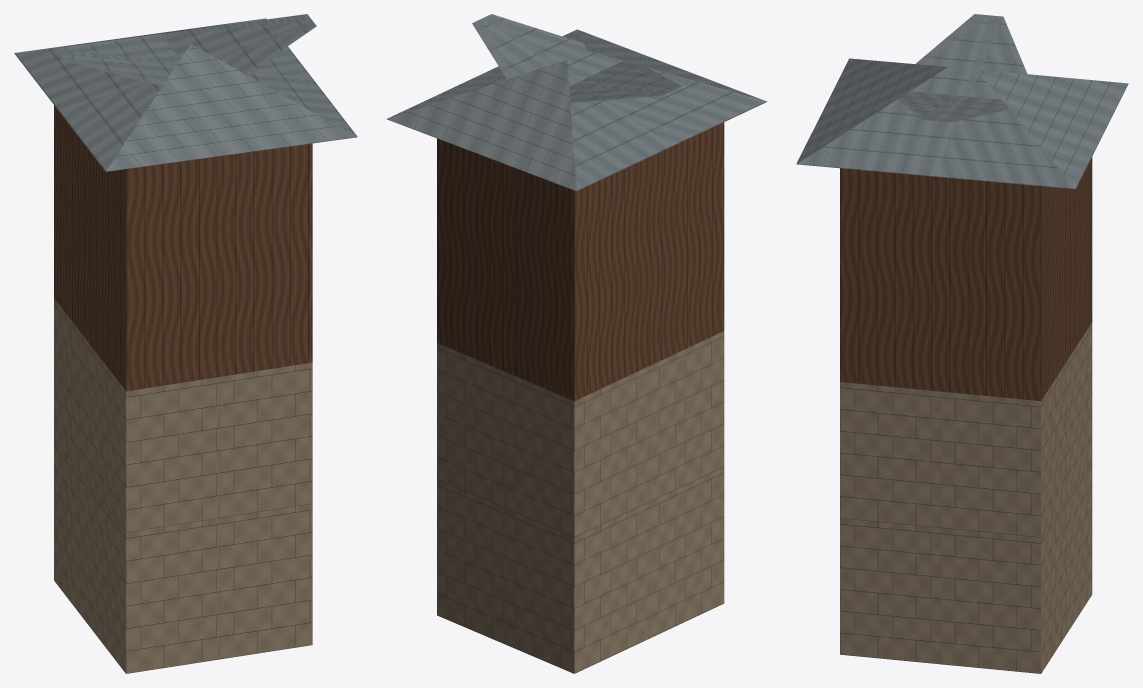
The model's file is bld_c9_27_402.gltf.
3 views of the same model, side by side, from view 1: azimuth 30°, elevation 25°; view 2: azimuth 150°, elevation 25°; view 3: azimuth 270°, elevation 25° (orthographic). The views are drawn at different scales.
Parts seen in each view (by area): view 1: bld_c9_27_402; view 2: bld_c9_27_402; view 3: bld_c9_27_402.
Part boxes in pixels (x1,y1,x2,y2): bld_c9_27_402: [14, 14, 357, 673]; bld_c9_27_402: [386, 14, 767, 673]; bld_c9_27_402: [796, 14, 1128, 673].
Bounding box in the file's own units: 5.04 × 10 × 5.42.
3 materials, 3 textured.
